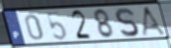0: (23, 13, 46, 41)
2: (71, 9, 93, 41)
5: (45, 10, 69, 42)
8: (93, 8, 114, 40)
A: (141, 6, 168, 37)
S: (114, 7, 140, 38)
